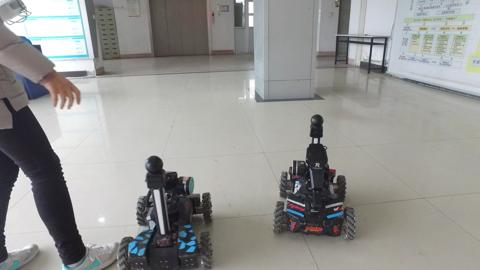chariot: (273, 103, 365, 242)
